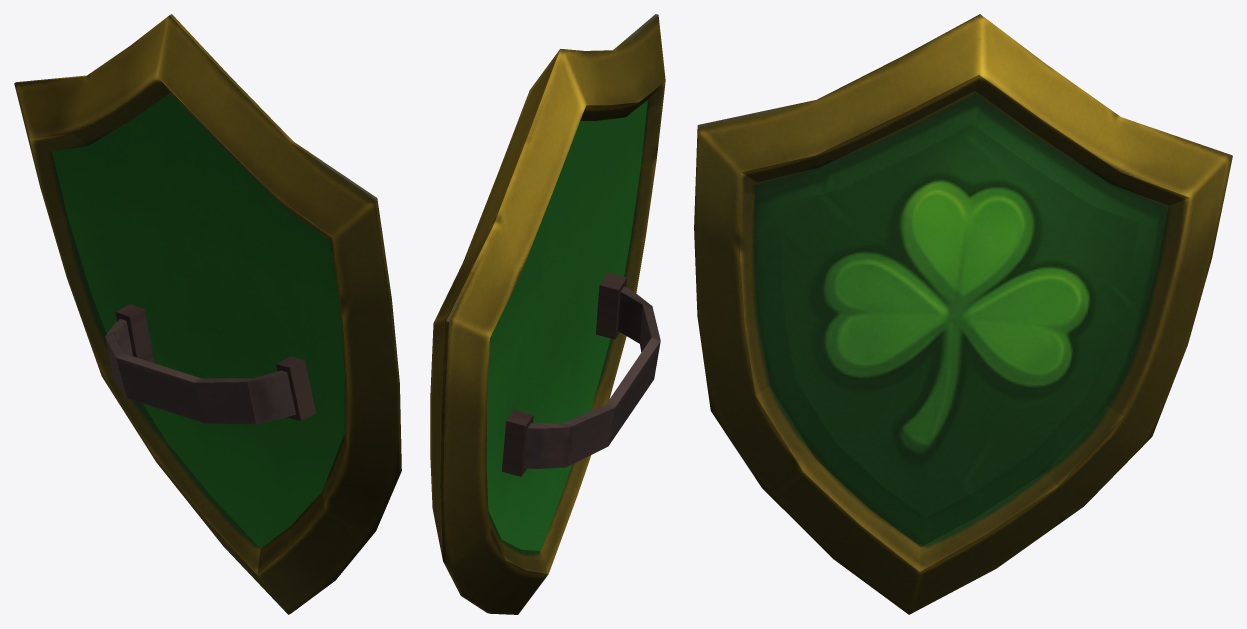
The model's file is Pie_Knight_Shield.fbx.
3 renders of one model, left to right at view 1: azimuth 30°, elevation 25°; view 2: azimuth 150°, elevation 25°; view 3: azimuth 270°, elevation 25°, orthographic. The views are drawn at different scales.
Visible parts, largest first — view 1: Pie_Knight_Shield; view 2: Pie_Knight_Shield; view 3: Pie_Knight_Shield.
Boxes of the visible parts, x1,y1,x2,y2 form: Pie_Knight_Shield: (14, 14, 401, 614); Pie_Knight_Shield: (430, 14, 665, 614); Pie_Knight_Shield: (694, 14, 1232, 614).
Bounding box in the file's own units: 11.77 × 42.04 × 36.49.
